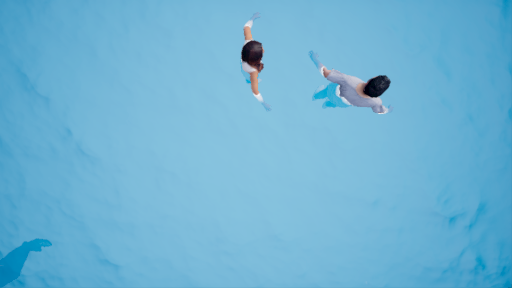person: (301, 54, 396, 123), (232, 10, 280, 113)
